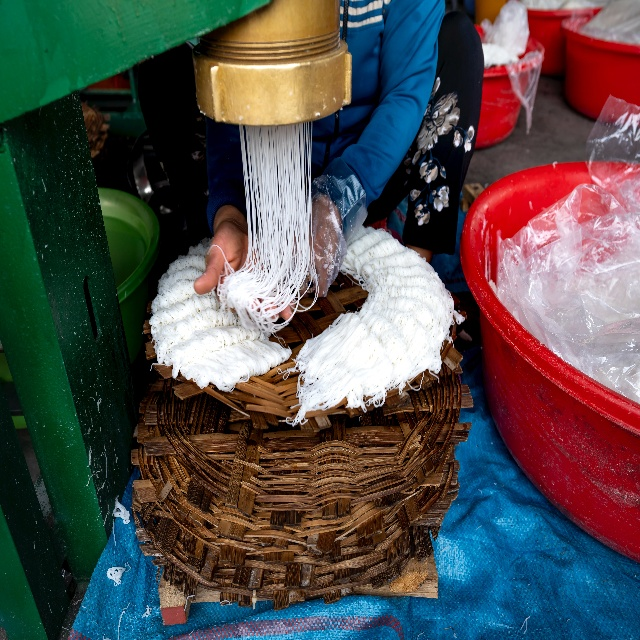Guantes: (309, 156, 368, 299)
Sin_guantes: (193, 216, 296, 321), (311, 199, 340, 298)
